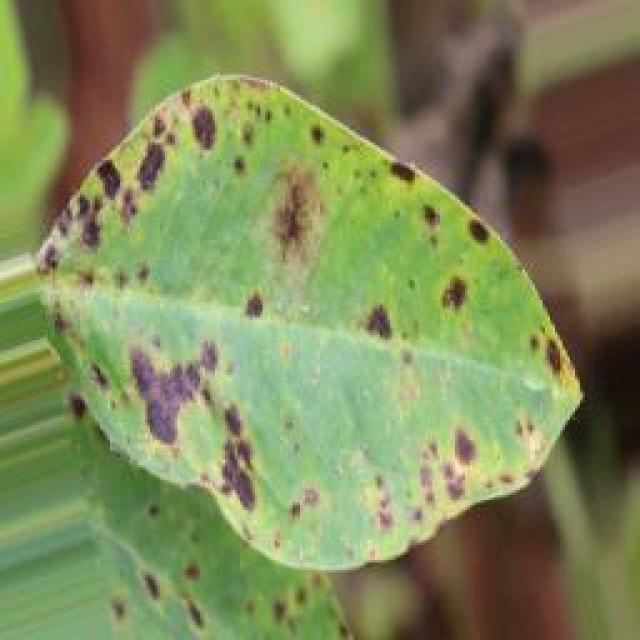Yellowish: (32, 53, 566, 605)
